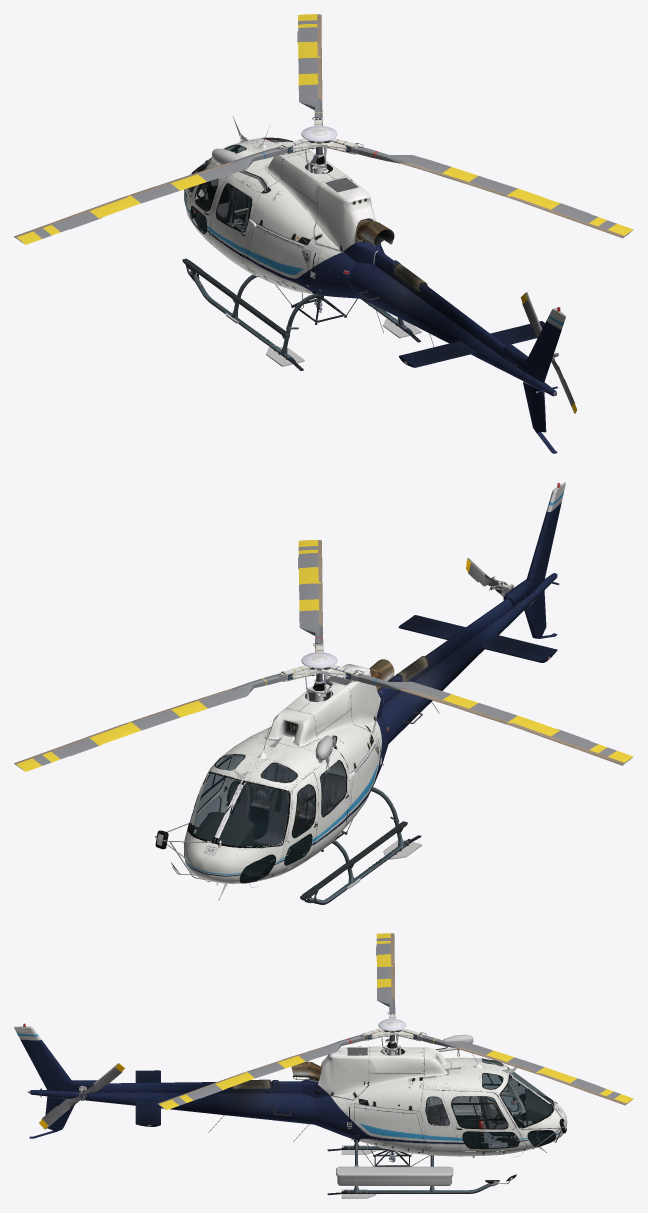
3 renders of one model, top to bottom at view 1: azimuth 30°, elevation 25°; view 2: azimuth 150°, elevation 25°; view 3: azimuth 270°, elevation 25°, orthographic. The views are drawn at different scales.
Visible parts, largest first — view 1: fuselage, main_rotor, Door_L, Front_Door_L; view 2: fuselage, main_rotor, Door_L, Front_Door_L, Door_R; view 3: fuselage, main_rotor, Door_R, tray02, tray01, Front_Door_L, Door_L, Rear_rotor09, Rear_rotor08.
Part boxes in pixels (x1=…): fuselage: x1=182, y1=116, x2=565, y2=453; main_rotor: x1=14, y1=14, x2=633, y2=244; Door_L: x1=209, y1=175, x2=261, y2=266; Front_Door_L: x1=187, y1=164, x2=227, y2=242; fuselage: x1=183, y1=482, x2=565, y2=904; main_rotor: x1=14, y1=540, x2=633, y2=771; Door_L: x1=310, y1=750, x2=355, y2=855; Front_Door_L: x1=272, y1=772, x2=318, y2=875; Door_R: x1=192, y1=756, x2=235, y2=833; fuselage: x1=14, y1=1023, x2=567, y2=1198; main_rotor: x1=157, y1=933, x2=633, y2=1110; Door_R: x1=442, y1=1090, x2=526, y2=1151; tray02: x1=336, y1=1166, x2=453, y2=1178; tray01: x1=337, y1=1177, x2=451, y2=1186; Front_Door_L: x1=478, y1=1061, x2=525, y2=1115; Door_L: x1=427, y1=1090, x2=481, y2=1114; Rear_rotor09: x1=39, y1=1095, x2=83, y2=1129; Rear_rotor08: x1=80, y1=1063, x2=124, y2=1098.
Bounding box in the file's own units: 8.48 × 3.35 × 12.57.
